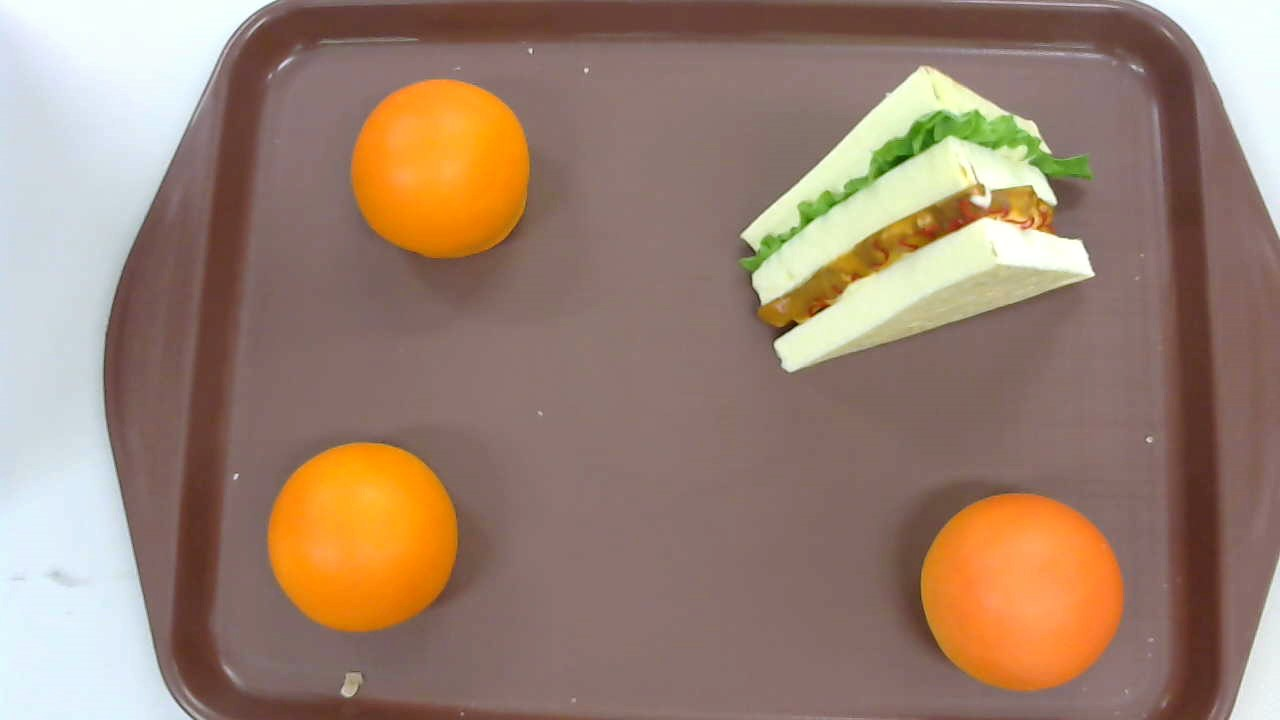bun: (921, 491, 1122, 693), (266, 442, 457, 634), (351, 78, 531, 260)
sandwich: (736, 64, 1096, 373)
